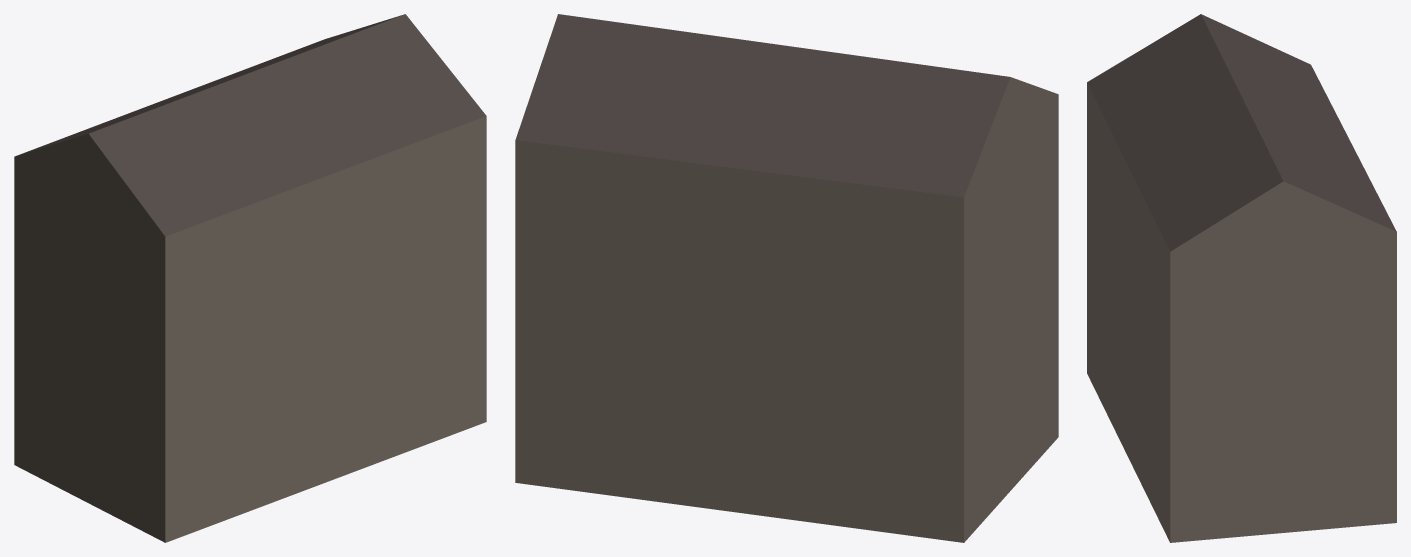
3 renders of one model, left to right at view 1: azimuth 30°, elevation 25°; view 2: azimuth 150°, elevation 25°; view 3: azimuth 270°, elevation 25°, orthographic. The views are drawn at different scales.
Parts seen in each view (by area): view 1: HP-w505643565; view 2: HP-w505643565; view 3: HP-w505643565.
Part boxes in pixels (x1,y1,x2,y2): HP-w505643565: (14, 14, 486, 542); HP-w505643565: (515, 14, 1058, 542); HP-w505643565: (1087, 14, 1396, 542).
Bounding box in the file's own units: 12.26 × 10.87 × 8.68.
